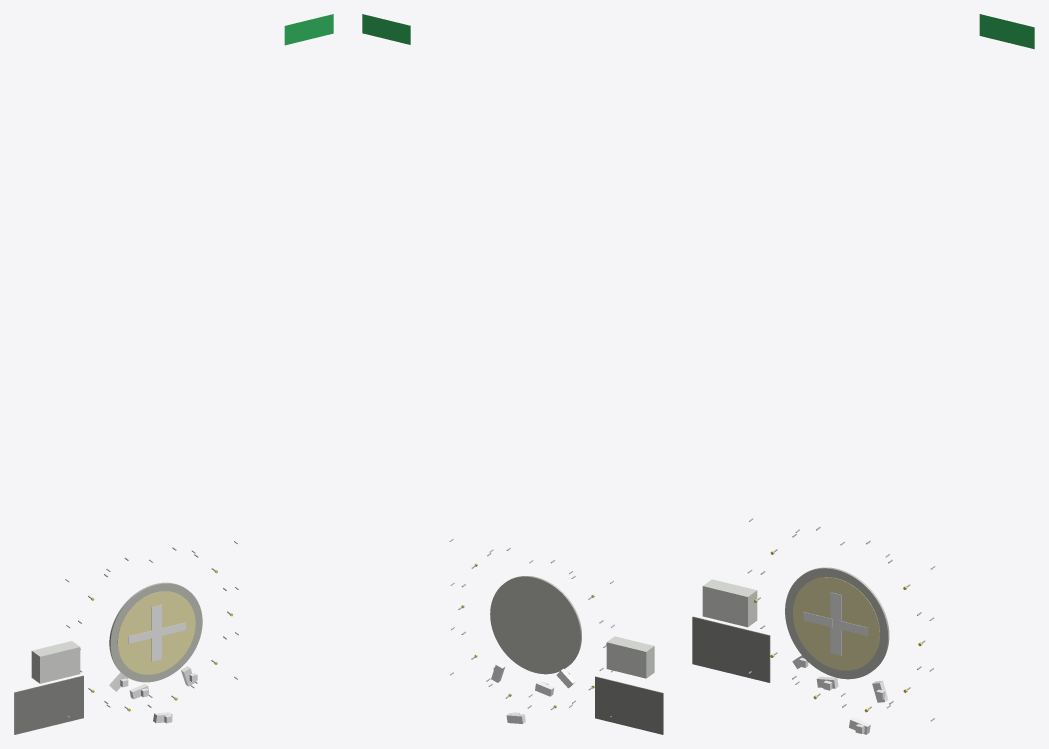
Rendered from compact_home.glb.
3 views of the same model, side by side, from view 1: azimuth 30°, elevation 25°; view 2: azimuth 150°, elevation 25°; view 3: azimuth 330°, elevation 25° (orthographic). The views are drawn at different scales.
Visible parts, largest first — view 1: SM_HOME_YellowRing, SM_HOME_Service_Yard, SM_HOME_LandingPad, SM_HOME_Ops_Building, Ref_Label_UGV_Area_Pad, SM_HOME_H_Long; view 2: SM_HOME_LandingPad, SM_HOME_Service_Yard, SM_HOME_Ops_Building, Ref_Label_UGV_Area_Pad; view 3: SM_HOME_YellowRing, SM_HOME_Service_Yard, SM_HOME_LandingPad, SM_HOME_Ops_Building, Ref_Label_UGV_Area_Pad, SM_HOME_H_Long.
Boxes of the visible parts, <box> form: SM_HOME_YellowRing: <box>117,591,195,674</box>; SM_HOME_Service_Yard: <box>14,675,83,734</box>; SM_HOME_LandingPad: <box>109,582,202,682</box>; SM_HOME_Ops_Building: <box>31,641,80,683</box>; Ref_Label_UGV_Area_Pad: <box>284,14,333,45</box>; SM_HOME_H_Long: <box>151,605,161,661</box>; SM_HOME_LandingPad: <box>490,576,581,674</box>; SM_HOME_Service_Yard: <box>595,676,663,734</box>; SM_HOME_Ops_Building: <box>606,636,654,678</box>; Ref_Label_UGV_Area_Pad: <box>362,14,410,44</box>; SM_HOME_YellowRing: <box>793,577,879,670</box>; SM_HOME_Service_Yard: <box>692,616,770,682</box>; SM_HOME_LandingPad: <box>785,567,889,679</box>; SM_HOME_Ops_Building: <box>702,579,757,627</box>; Ref_Label_UGV_Area_Pad: <box>979,14,1034,49</box>; SM_HOME_H_Long: <box>830,592,841,655</box>.
Size of the model in its own units: 217 by 448 by 12.31.
